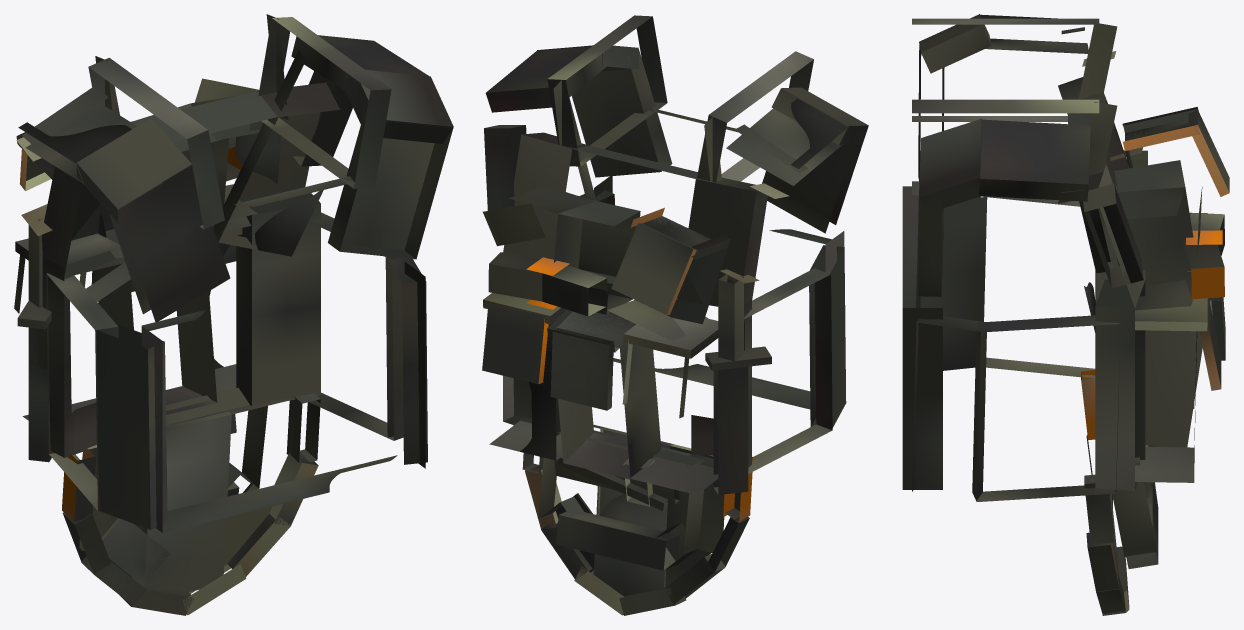
Rendered from ratnik_veteran.obj.
3 views of the same model, side by side, from view 1: azimuth 30°, elevation 25°; view 2: azimuth 150°, elevation 25°; view 3: azimuth 270°, elevation 25° (orthographic). The views are drawn at different scales.
Visible parts, largest first — view 1: mesh; view 2: mesh; view 3: mesh.
Boxes of the visible parts, bbox=[...] form: mesh: bbox=[14, 14, 453, 615]; mesh: bbox=[482, 15, 868, 615]; mesh: bbox=[902, 14, 1229, 615].
Bounding box in the file's own units: 0.7271 × 1.13 × 0.6209.
